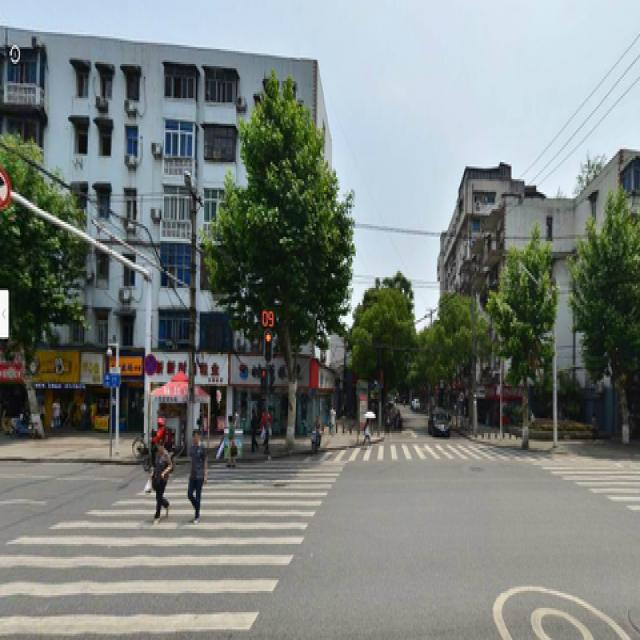meta: (245, 111, 331, 452)
